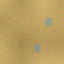person: (45, 17, 52, 26), (34, 43, 40, 52)
